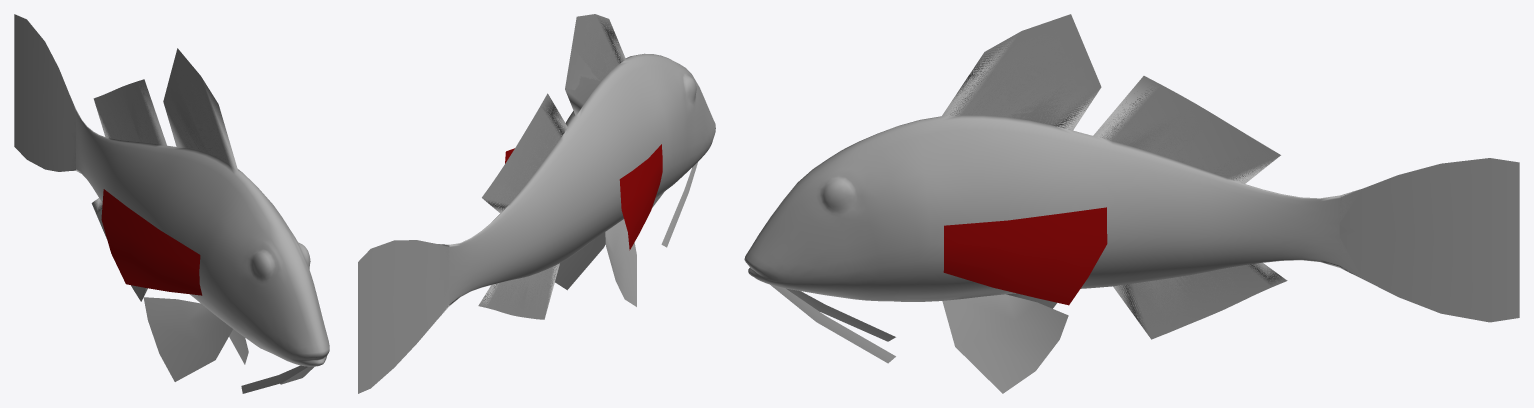
File: Mullidae_A.fbx
The picture shows the model from 3 angles, left to right: view 1: azimuth 30°, elevation 25°; view 2: azimuth 150°, elevation 25°; view 3: azimuth 270°, elevation 25°; orthographic projection. The views are drawn at different scales.
Parts seen in each view (by area): view 1: Mullidae_A_LOD0; view 2: Mullidae_A_LOD0; view 3: Mullidae_A_LOD0.
Boxes of the visible parts, box(x1,y1,x2,y2) form: Mullidae_A_LOD0: box(14, 14, 329, 393); Mullidae_A_LOD0: box(358, 14, 715, 393); Mullidae_A_LOD0: box(744, 14, 1519, 393).
Size of what is drawn, in the model's own units: 0.2084 by 0.5138 by 1.01.
